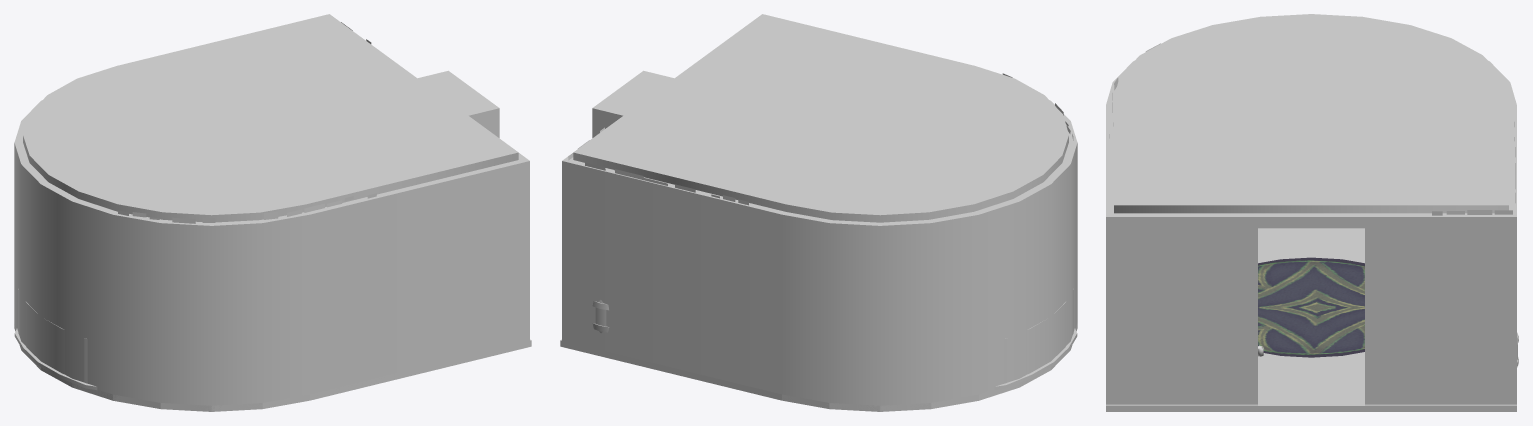
File: Room01_Hiddenroom_V01.fbx
3 renders of one model, left to right at view 1: azimuth 30°, elevation 25°; view 2: azimuth 150°, elevation 25°; view 3: azimuth 270°, elevation 25°, orthographic. The views are drawn at different scales.
Visible parts, largest first — view 1: Hiddenroom_Walls, Alchemy Extra Table, Hiddenroom_Floor, Ivy; view 2: Hiddenroom_Walls, Hiddenroom_Floor, Alchemy Extra Table, Ivy; view 3: Hiddenroom_Walls, Carpet_Circle, Hiddenroom_Floor, Hiddenroom_Stairs, Ivy.
Boxes of the visible parts, left/top/right/bottom form: Hiddenroom_Walls: left=14, top=14, right=529, bottom=411; Alchemy Extra Table: left=14, top=289, right=97, bottom=389; Hiddenroom_Floor: left=14, top=323, right=531, bottom=411; Ivy: left=118, top=22, right=376, bottom=223; Hiddenroom_Walls: left=562, top=14, right=1077, bottom=411; Hiddenroom_Floor: left=560, top=323, right=1077, bottom=411; Alchemy Extra Table: left=994, top=289, right=1077, bottom=389; Ivy: left=568, top=73, right=1073, bottom=205; Hiddenroom_Walls: left=1106, top=14, right=1516, bottom=405; Carpet_Circle: left=1258, top=257, right=1364, bottom=357; Hiddenroom_Floor: left=1106, top=250, right=1516, bottom=411; Hiddenroom_Stairs: left=1258, top=361, right=1364, bottom=384; Ivy: left=1109, top=43, right=1515, bottom=215.
Size of the model in its own units: 2141 by 908 by 1682.
